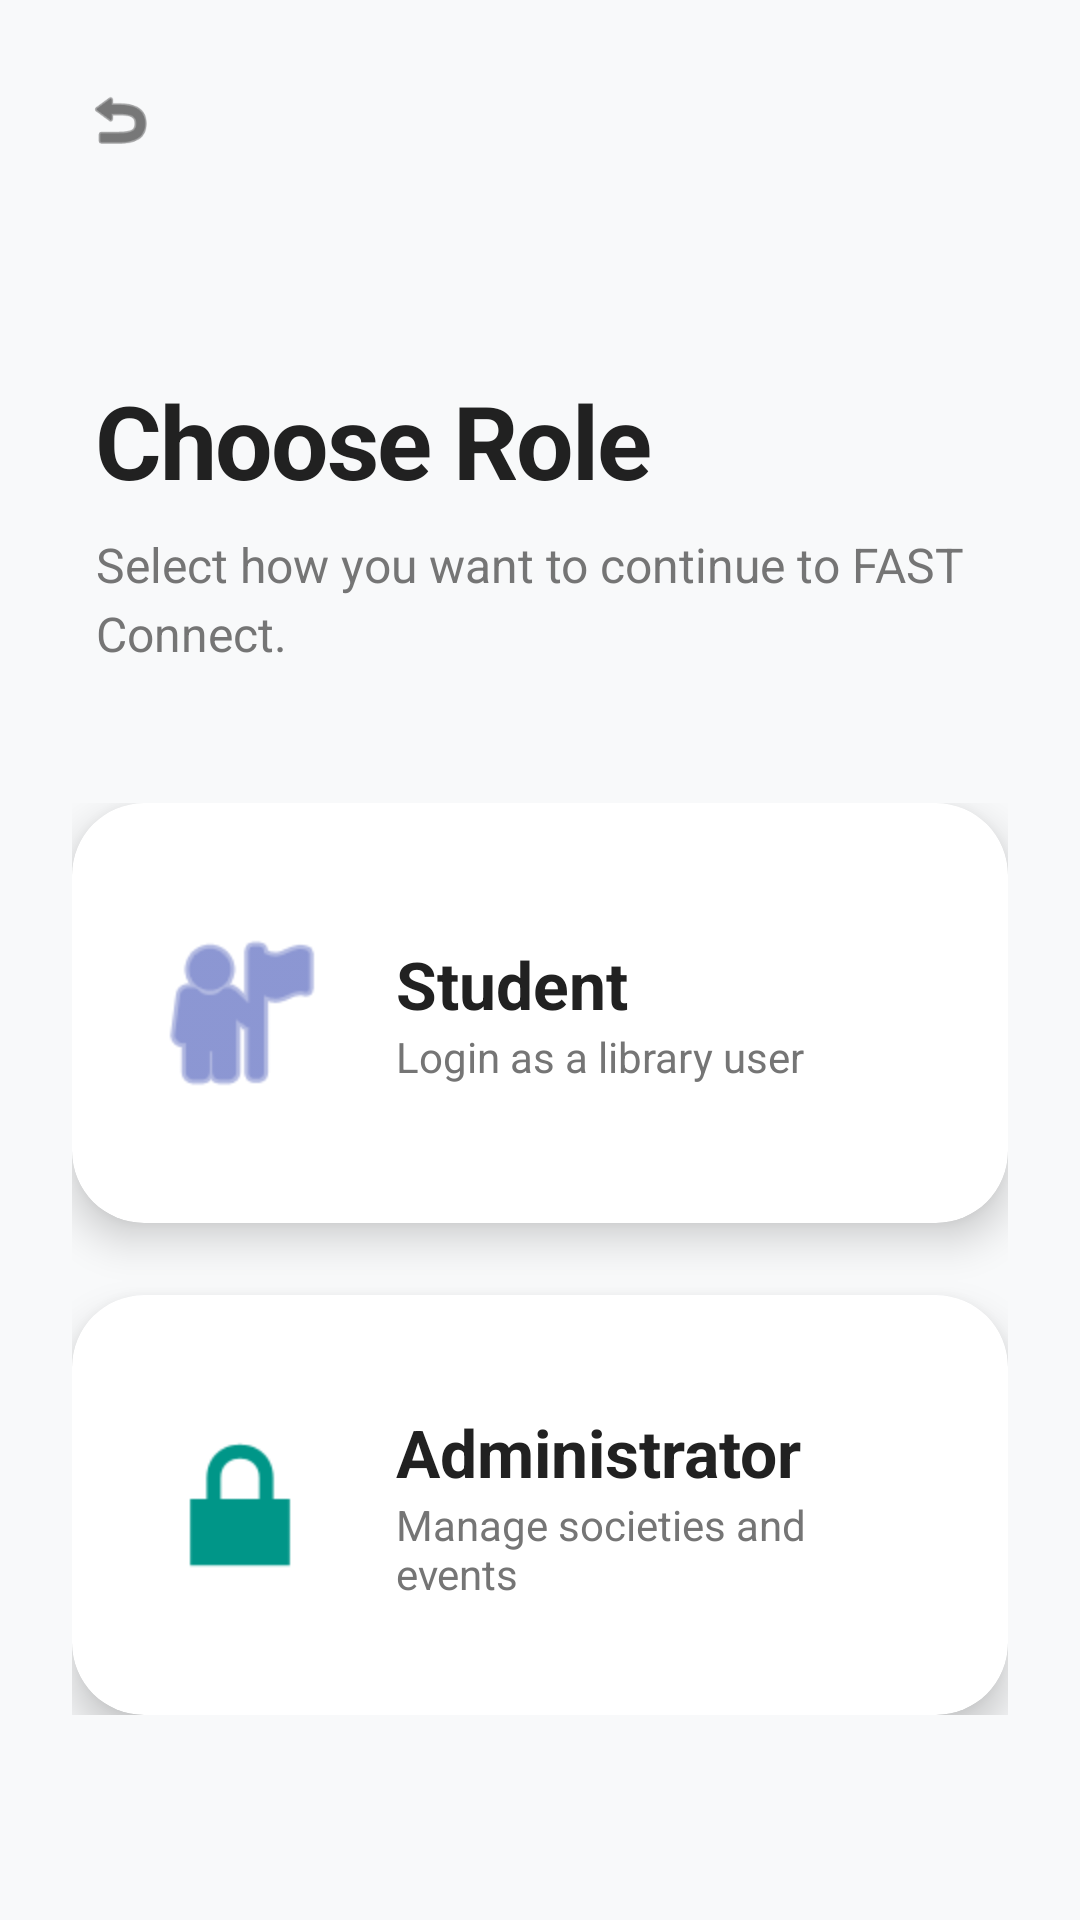

Screen size 1080 × 1920. Icon name, then its center in pixels as point (x, y):
lock: point (240, 1505)
revert: point (121, 120)
